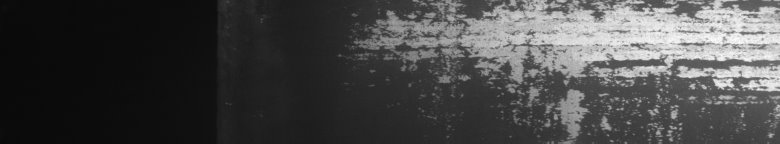kb: (352, 4, 776, 136)
